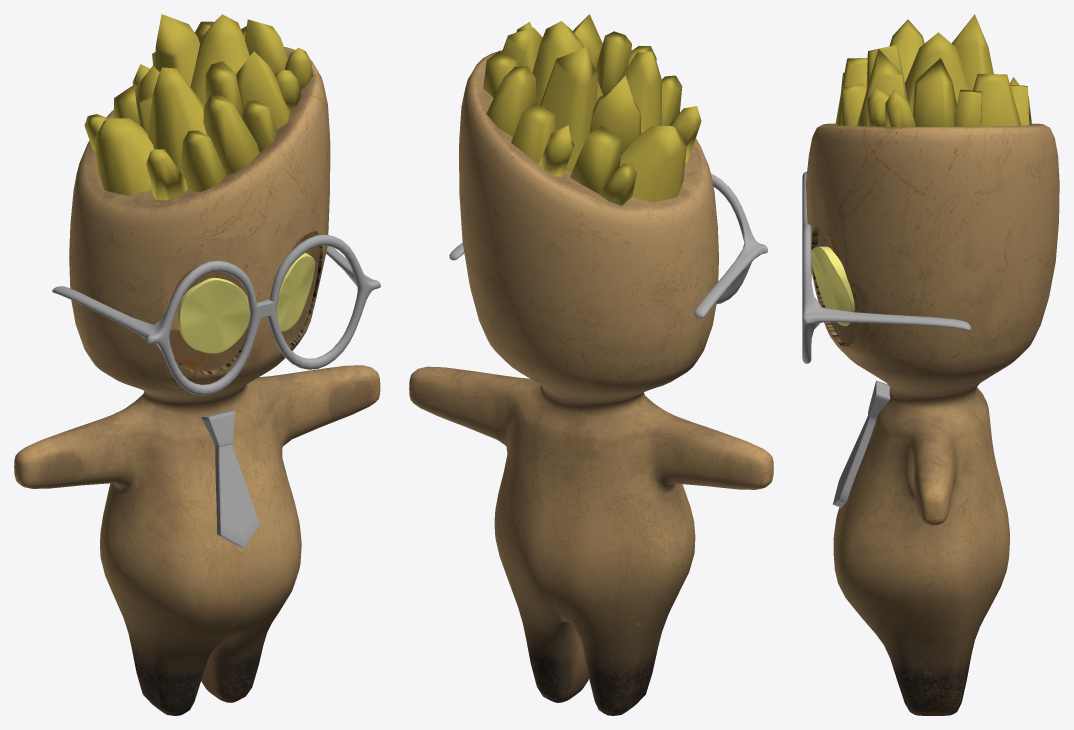
The model's file is larimar3.fbx.
The picture shows the model from 3 angles, left to right: view 1: azimuth 30°, elevation 25°; view 2: azimuth 150°, elevation 25°; view 3: azimuth 270°, elevation 25°; orthographic projection.
Parts seen in each view (by area): view 1: polySurface1207, luminite_crystal_top, larimars_glasses_smoothed1, eye1, polySurface1208, eye2, polySurface1209; view 2: polySurface1207, luminite_crystal_top, larimars_glasses_smoothed1; view 3: polySurface1207, luminite_crystal_top, larimars_glasses_smoothed1, eye2, polySurface1209.
Part boxes in pixels (x1,y1,x2,y2): polySurface1207: [14, 47, 380, 715]; luminite_crystal_top: [84, 14, 312, 200]; larimars_glasses_smoothed1: [52, 234, 380, 547]; eye1: [178, 277, 250, 353]; polySurface1208: [169, 270, 249, 371]; eye2: [277, 252, 315, 331]; polySurface1209: [281, 231, 319, 344]; polySurface1207: [409, 50, 773, 715]; luminite_crystal_top: [483, 14, 701, 205]; larimars_glasses_smoothed1: [449, 174, 767, 318]; polySurface1207: [805, 123, 1059, 715]; luminite_crystal_top: [835, 14, 1031, 127]; larimars_glasses_smoothed1: [802, 171, 971, 507]; eye2: [811, 246, 854, 325]; polySurface1209: [817, 229, 857, 344].
Bounding box in the file's own units: 103 × 186 × 63.55.
